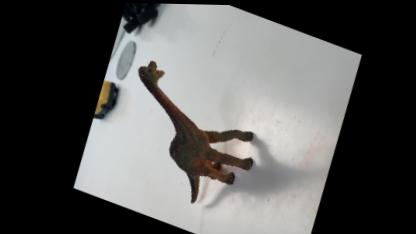brontosaurus: (96, 55, 273, 220)
